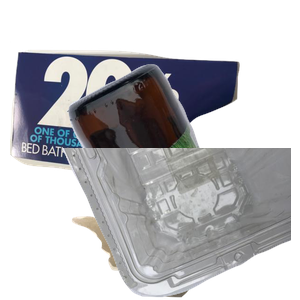glass: (66, 61, 300, 241)
paper: (10, 41, 242, 207)
plastic: (60, 148, 300, 300)
trash: (66, 137, 263, 300)
